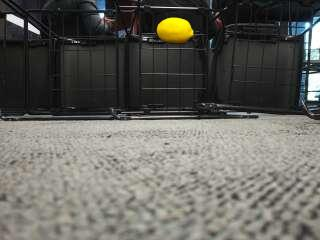lemon: (157, 18, 193, 43)
